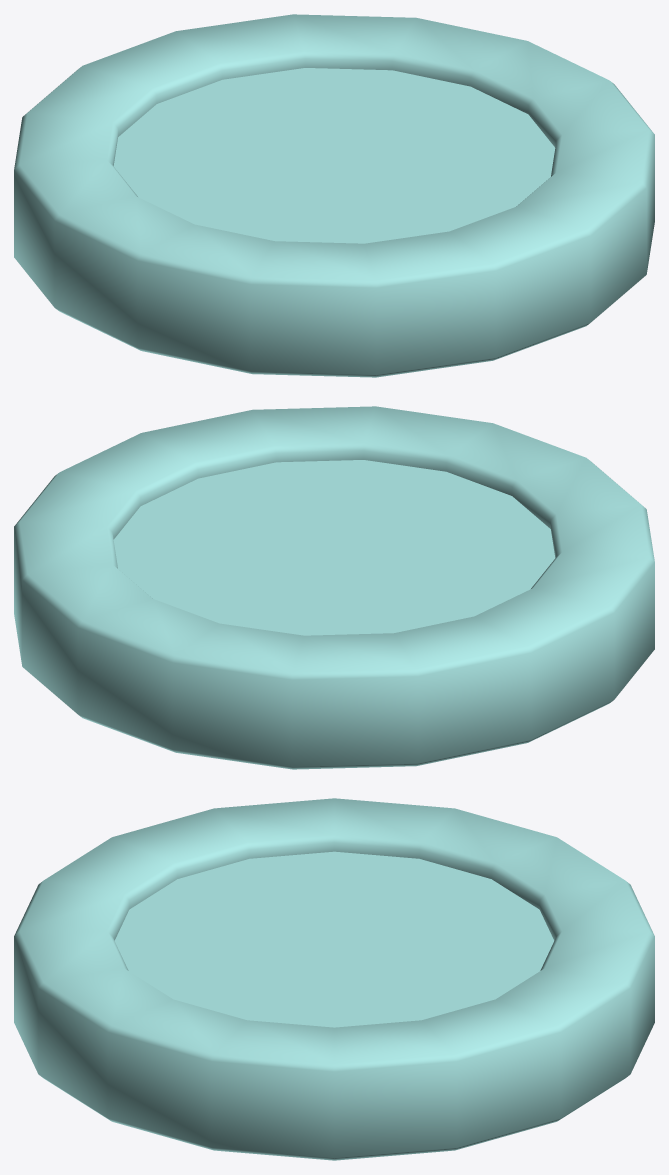
The picture shows the model from 3 angles, top to bottom: view 1: azimuth 30°, elevation 25°; view 2: azimuth 150°, elevation 25°; view 3: azimuth 270°, elevation 25°; orthographic projection.
Parts seen in each view (by area): view 1: Object_4; view 2: Object_4; view 3: Object_4.
Boxes of the visible parts, x1=… form: Object_4: x1=14, y1=14, x2=654, y2=377; Object_4: x1=14, y1=406, x2=654, y2=769; Object_4: x1=14, y1=798, x2=654, y2=1160.
Size of the model in its own units: 1 by 0.1658 by 1.
